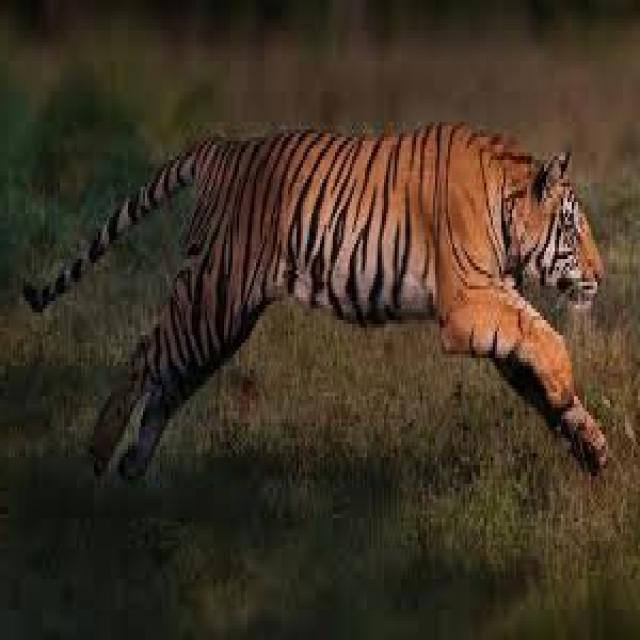tiger: (26, 122, 606, 472)
